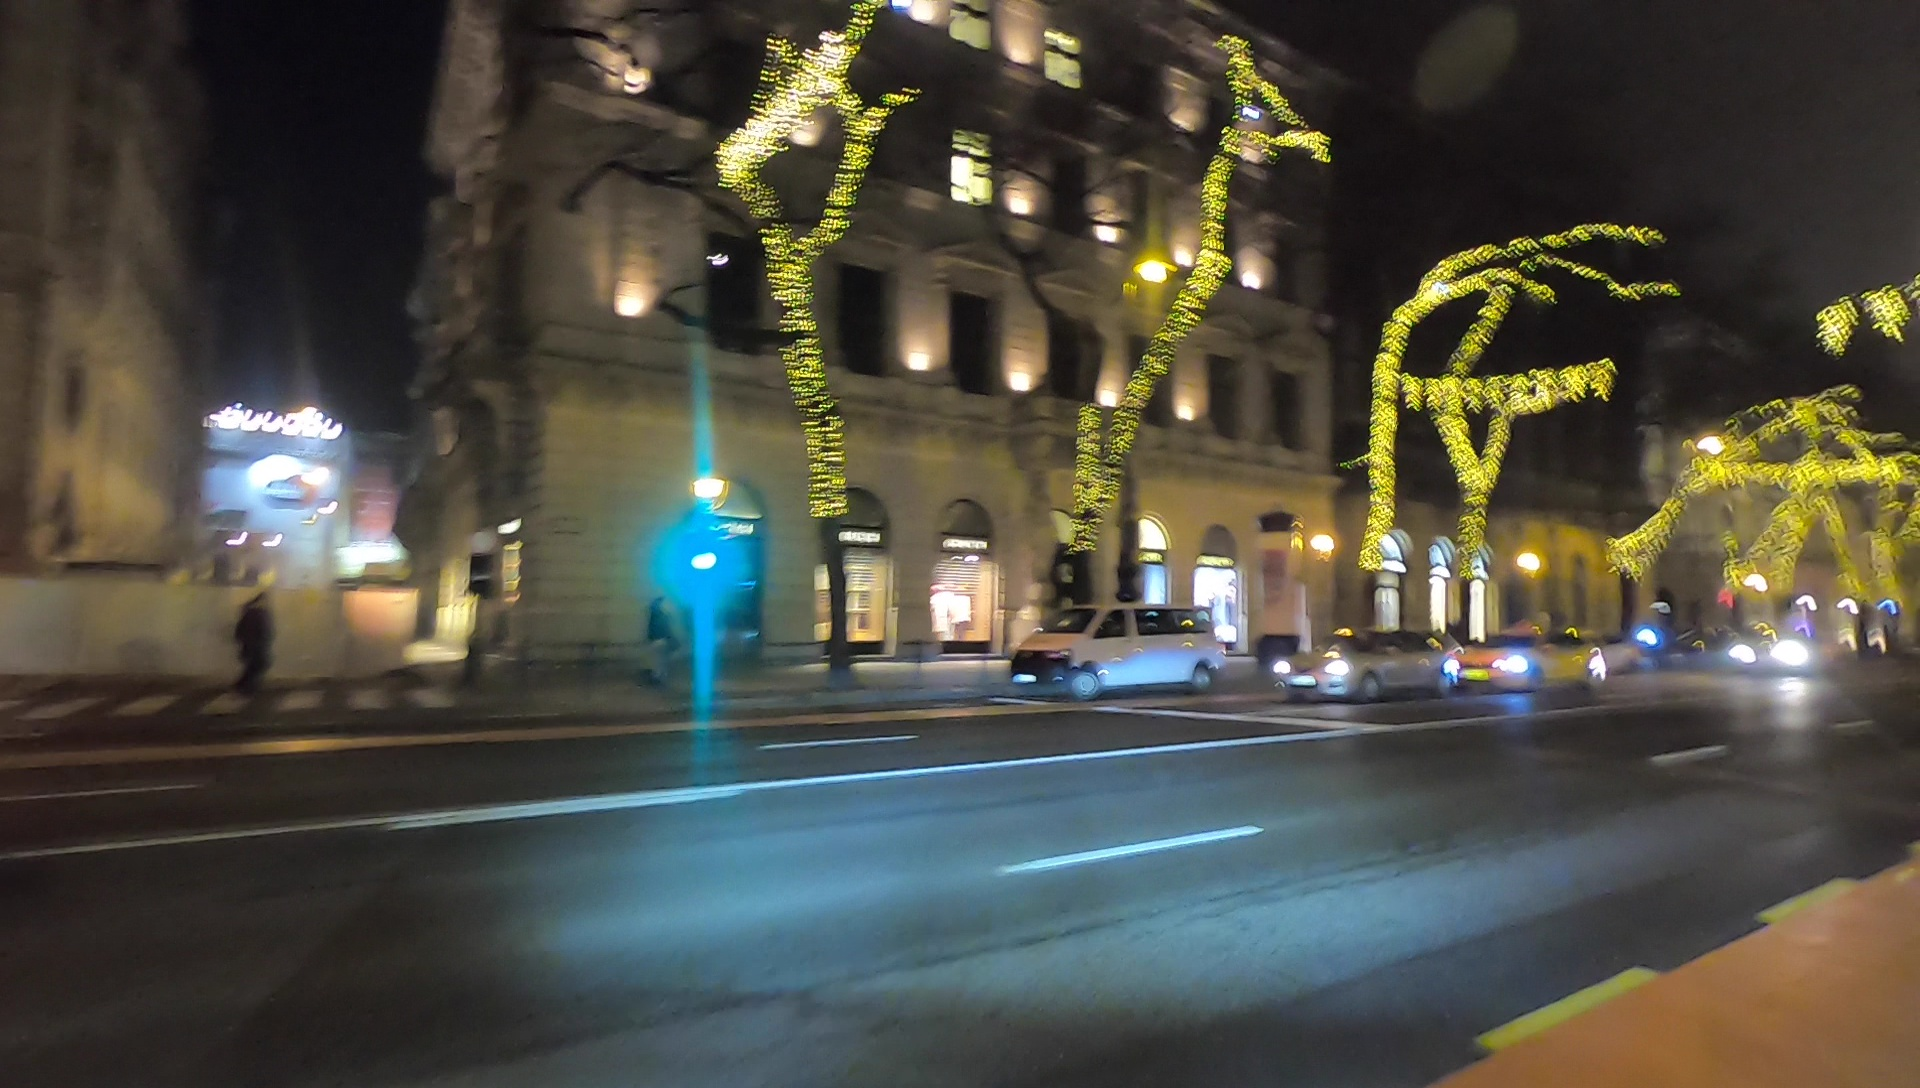person: (232, 586, 278, 700), (641, 591, 680, 702)
